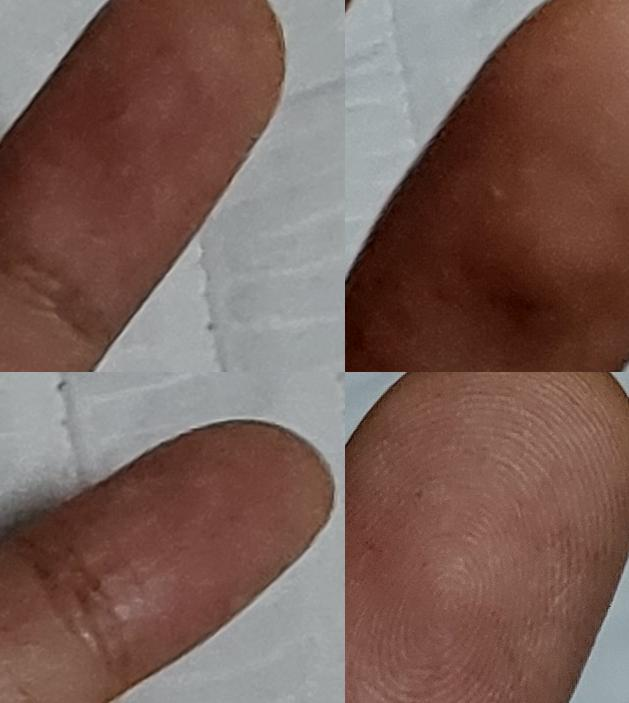Fingerprints: (0, 0, 286, 339), (345, 372, 629, 703), (17, 420, 335, 692)
